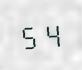five: (19, 21, 40, 50)
four: (41, 20, 62, 48)
